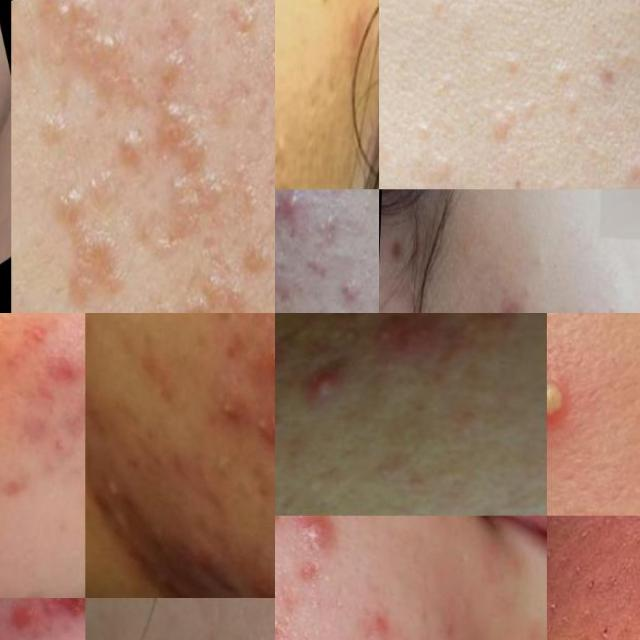acne_scars: (0, 463, 47, 517), (275, 605, 303, 640), (492, 299, 522, 313)
comedone: (24, 313, 59, 353), (333, 271, 363, 313), (524, 246, 554, 282), (319, 208, 342, 252), (298, 252, 329, 283), (71, 390, 85, 457), (408, 118, 431, 156), (494, 50, 522, 77), (275, 122, 294, 158), (546, 60, 576, 82), (536, 173, 566, 190), (559, 95, 585, 112)
flat_wart: (132, 29, 236, 233), (21, 154, 144, 313), (43, 0, 136, 123), (154, 244, 271, 313), (88, 103, 152, 189), (230, 215, 275, 290), (480, 94, 519, 154), (222, 0, 272, 44), (255, 19, 275, 120), (414, 159, 454, 189)
papule: (33, 335, 85, 399), (364, 313, 432, 354), (0, 598, 45, 640), (230, 564, 275, 597)
pustule: (547, 346, 595, 452), (293, 348, 357, 414), (276, 516, 333, 547), (254, 328, 275, 398)
sebo-crystan-conglo: (34, 597, 85, 640), (275, 189, 312, 228)
